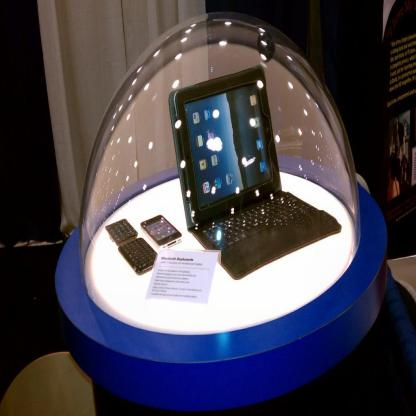board: (170, 67, 342, 279)
